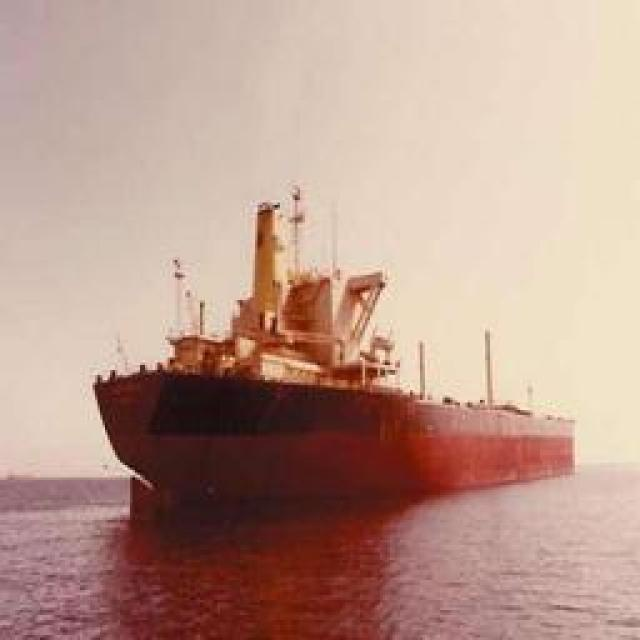CIV_Ship: (105, 358, 570, 510)
